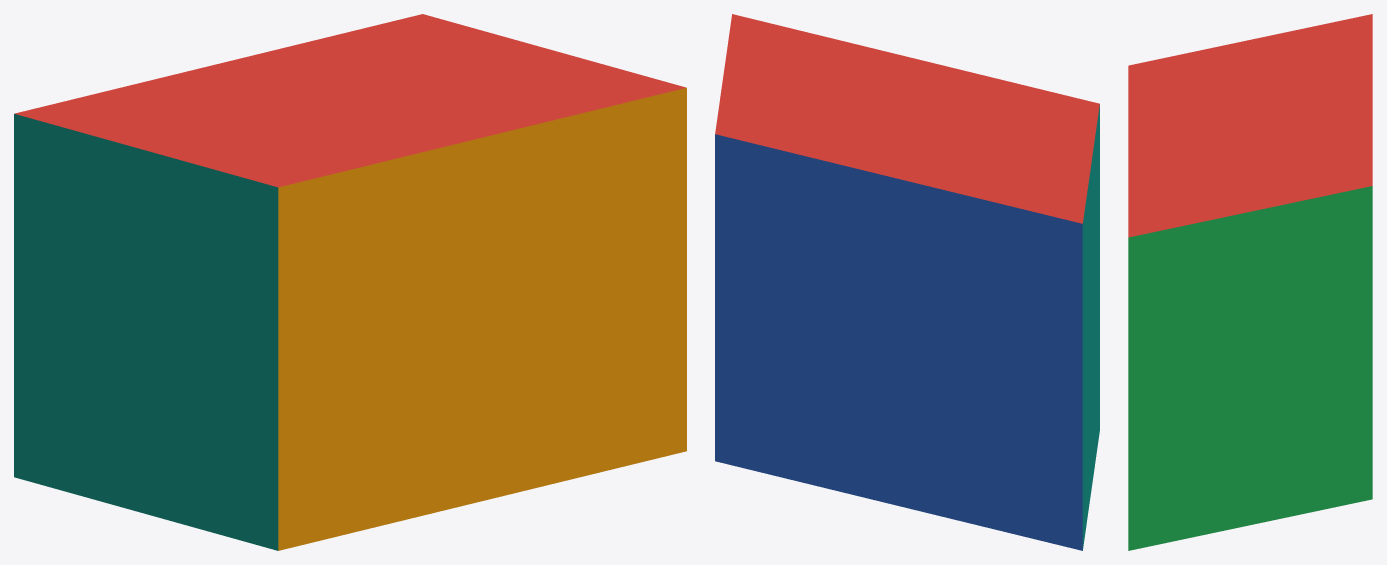
File: prisma-jajargenjang.glb
The picture shows the model from 3 angles, left to right: view 1: azimuth 30°, elevation 25°; view 2: azimuth 150°, elevation 25°; view 3: azimuth 270°, elevation 25°; orthographic projection. The views are drawn at different scales.
Parts seen in each view (by area): view 1: tegak3, tegak4, atas; view 2: tegak1, atas, tegak4; view 3: tegak2, atas.
Part boxes in pixels (x1,y1,x2,y2): tegak3: (278, 87, 686, 550); tegak4: (14, 114, 278, 550); atas: (14, 14, 685, 187); tegak1: (715, 134, 1082, 550); atas: (715, 14, 1099, 223); tegak4: (1082, 104, 1099, 550); tegak2: (1128, 186, 1372, 550); atas: (1128, 14, 1372, 237).
Bounding box in the file's own units: 2.6 × 1.7 × 1.2.
